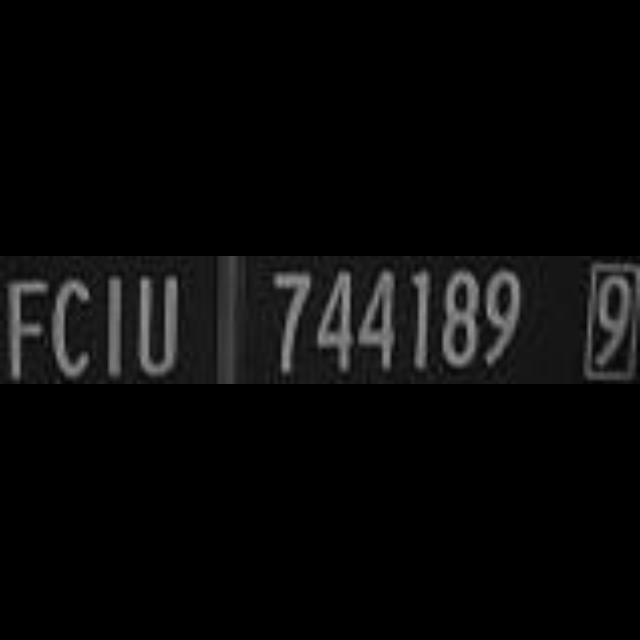1: (410, 265, 434, 377)
4: (315, 267, 361, 375), (359, 266, 398, 376)
7: (270, 268, 314, 377)
8: (438, 266, 479, 370)
9: (480, 264, 526, 374), (596, 272, 634, 378)
c: (52, 272, 96, 383)
f: (0, 277, 56, 385)
i: (104, 274, 128, 381)
u: (136, 273, 182, 381)
